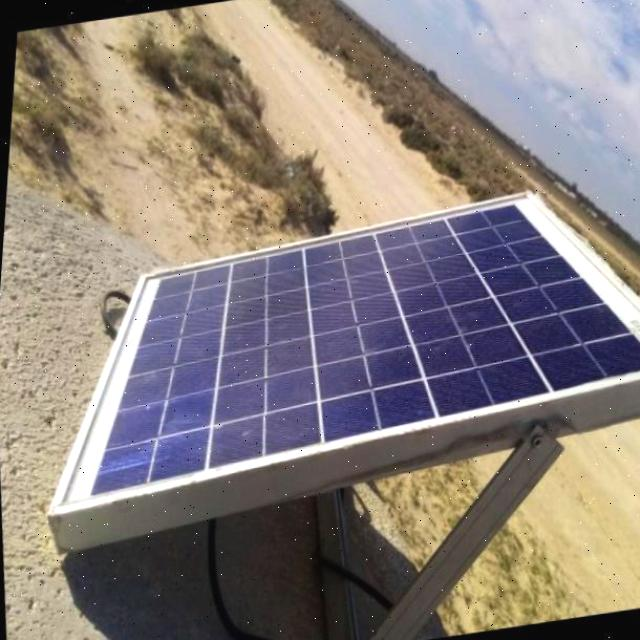Normal Solar Panel: (24, 173, 640, 513)
